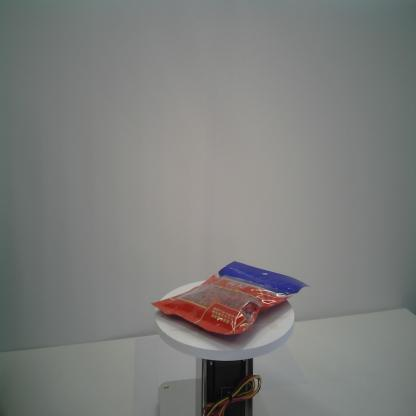Dried Fruit: (151, 261, 311, 336)
